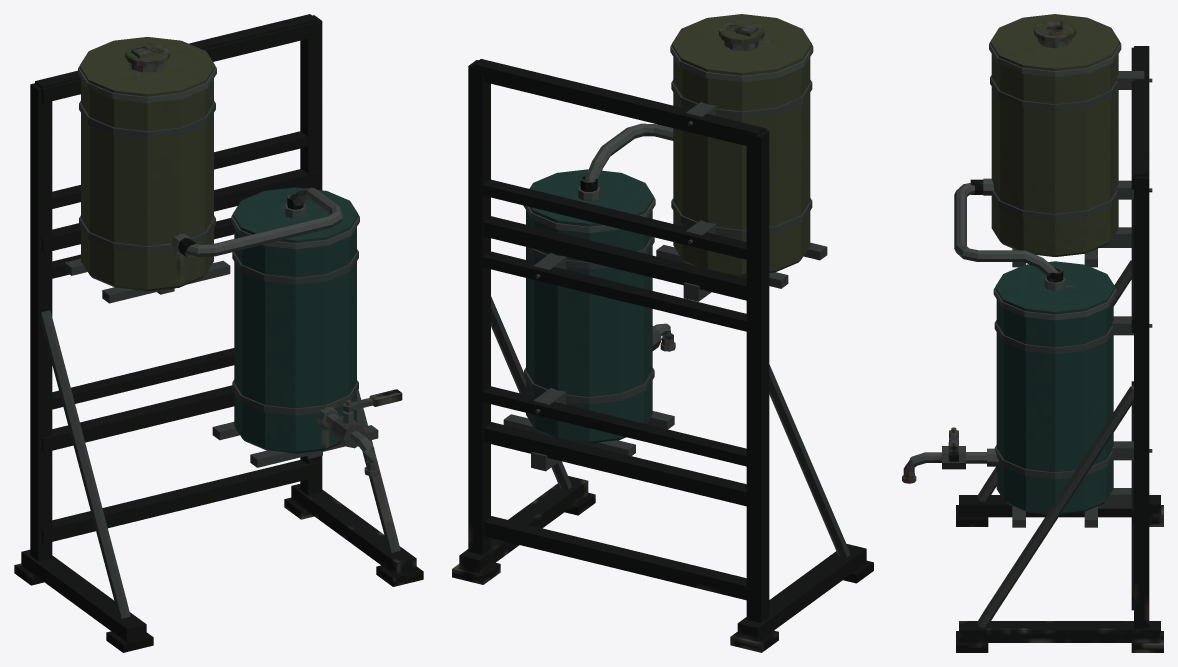
File: improvised_water_filter.glb
3 renders of one model, left to right at view 1: azimuth 30°, elevation 25°; view 2: azimuth 150°, elevation 25°; view 3: azimuth 270°, elevation 25°, orthographic. The views are drawn at different scales.
Parts seen in each view (by area): view 1: WaterFilterBody, WaterFilterTapLever; view 2: WaterFilterBody; view 3: WaterFilterBody.
Part boxes in pixels (x1,y1,x2,y2): WaterFilterBody: (14,14,423,652); WaterFilterTapLever: (343,389,402,412); WaterFilterBody: (452,14,873,652); WaterFilterBody: (902,14,1163,652).
Size of what is drawn, in the model's own units: 0.69 by 1.2 by 0.5455.
1 material, 1 textured.
